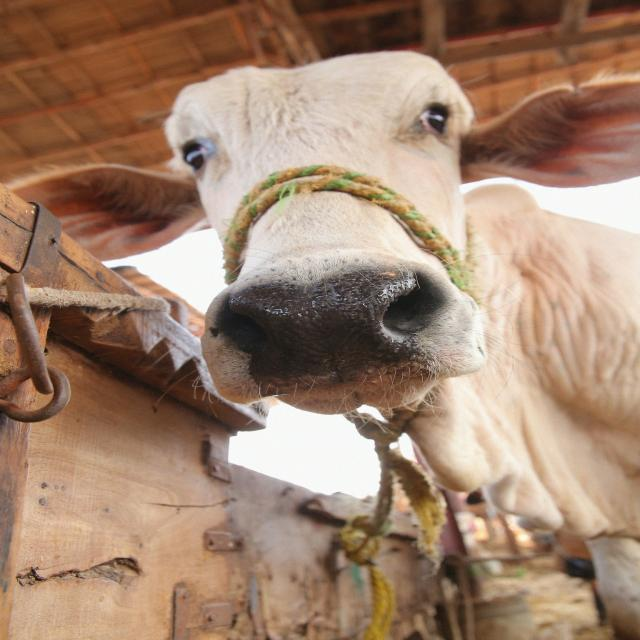muzzles: (200, 263, 462, 400)
